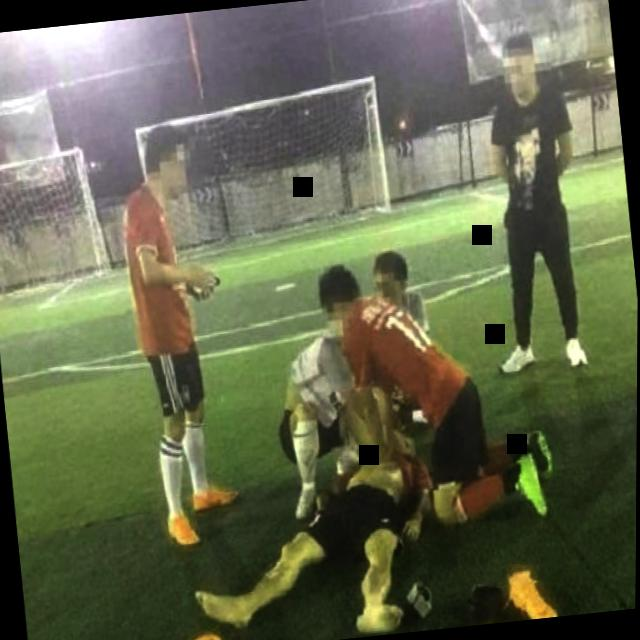Fall-Detected: (172, 424, 447, 640)
